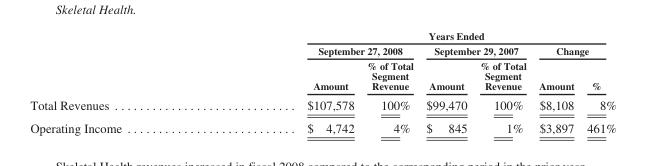table: (29, 29, 615, 134)
table column: (29, 29, 213, 134), (213, 29, 360, 134), (472, 29, 532, 134), (360, 29, 419, 134), (419, 29, 472, 134), (532, 29, 579, 134), (579, 29, 615, 134)
table column header: (29, 29, 615, 94)
table row: (29, 57, 615, 94), (29, 94, 615, 116), (29, 116, 615, 134), (29, 42, 615, 57), (29, 29, 615, 42)
table spanning cell: (213, 29, 615, 42), (213, 42, 419, 57), (419, 42, 532, 57), (532, 42, 615, 57)
